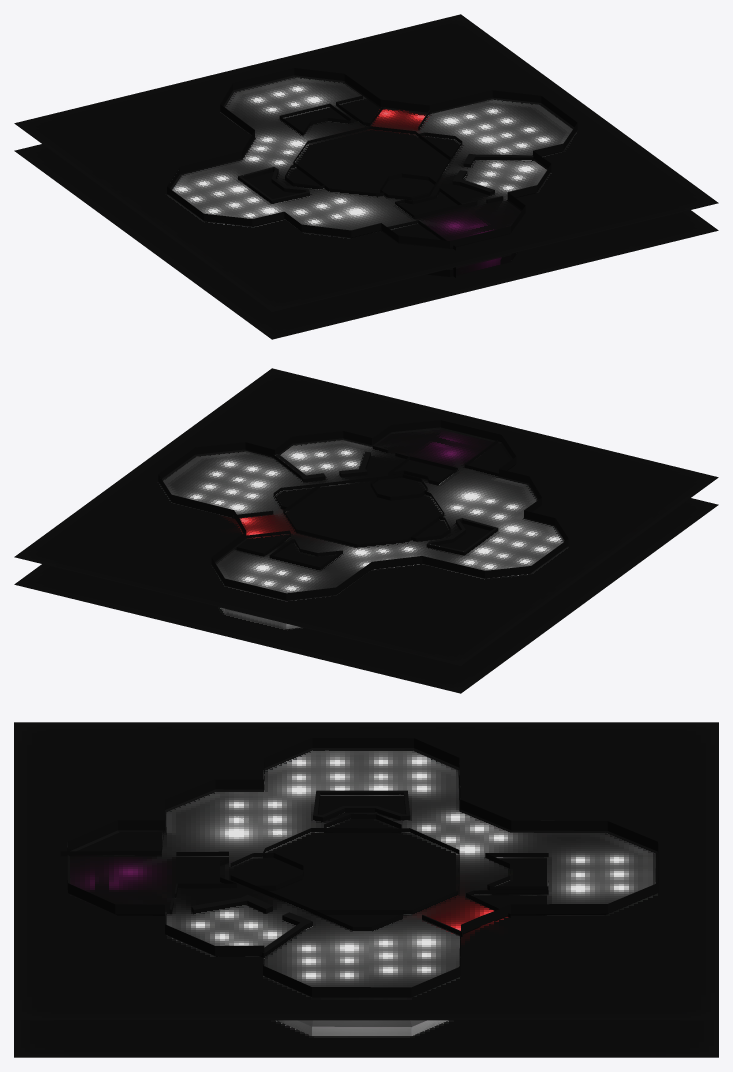
File: office.glb
The picture shows the model from 3 angles, top to bottom: view 1: azimuth 30°, elevation 25°; view 2: azimuth 150°, elevation 25°; view 3: azimuth 270°, elevation 25°; orthographic projection. The views are drawn at different scales.
Parts seen in each view (by area): view 1: Plane; view 2: Plane; view 3: Plane.
Part boxes in pixels (x1,y1,x2,y2): Plane: (14,14,718,339); Plane: (14,368,718,693); Plane: (14,722,718,1057).
Bounding box in the file's own units: 101 × 8.05 × 101.
Materials: 1 (1 with a texture image).
